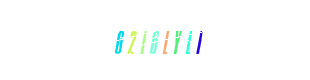2: (103, 0, 183, 80)
6: (96, 0, 176, 80), (114, 0, 194, 80)
I: (112, 0, 192, 80), (159, 0, 239, 80)
L: (125, 0, 205, 80), (159, 0, 239, 80)
Y: (137, 0, 217, 80)
